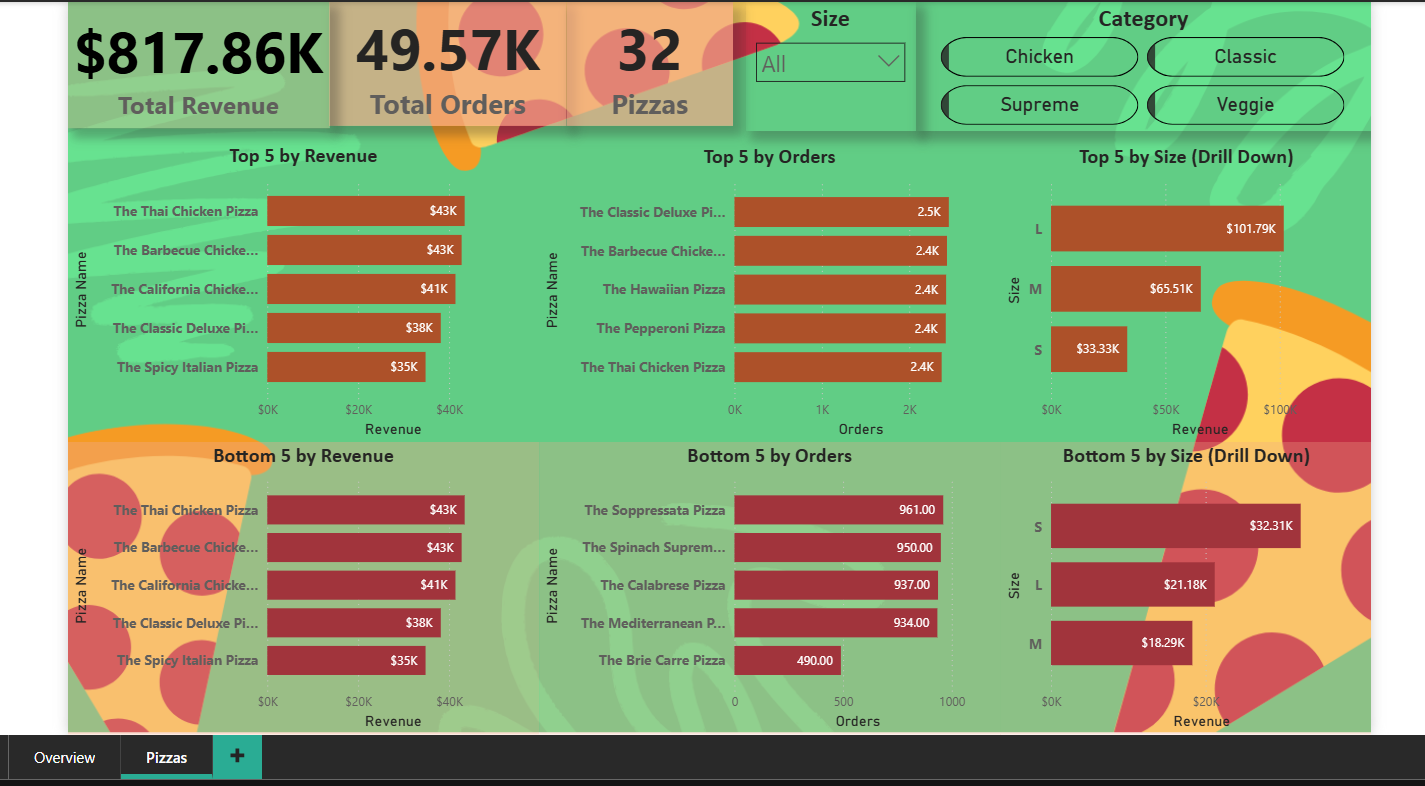

The page's visual inventory and layout, read from the dashboard file:
{"tool":"powerbi","page":{"name":"Pizzas","canvas":[1280,720],"ordinal":1},"visuals":[{"type":"card","fields":{"Values":["Sum(hourlySales.totalOrders)"]},"box":[256.4,0,233.1,121.5],"z":0},{"type":"barChart","title":"Top 5 by Revenue","fields":{"Category":["hourlySales.name"],"Y":["Sum(hourlySales.totalSales)"]},"box":[0,137.5,462.5,295],"z":1000},{"type":"barChart","title":"Bottom 5 by Revenue","fields":{"Category":["hourlySales.name"],"Y":["Sum(hourlySales.totalSales)"]},"box":[0,432.5,462.5,287.5],"z":2000},{"type":"barChart","title":"Top 5 by Orders","fields":{"Category":["hourlySales.name"],"Y":["Sum(hourlySales.totalOrders)"]},"box":[462.5,138.8,452.5,293.8],"z":3000},{"type":"barChart","title":"Bottom 5 by Orders","fields":{"Category":["hourlySales.name"],"Y":["Sum(hourlySales.totalOrders)"]},"box":[462.5,432.5,452.5,287.5],"z":4000},{"type":"advancedSlicerVisual","fields":{"Values":["hourlySales.category"]},"box":[831.9,0,447.9,126.4],"z":5000},{"type":"card","fields":{"Values":["Count(hourlySales.name)"]},"box":[489.6,0,163.2,121.5],"z":6000},{"type":"clusteredBarChart","title":"Bottom 5 by Size (Drill Down)","fields":{"Category":["hourlySales.size","hourlySales.name"],"Y":["Sum(hourlySales.totalSales)"]},"box":[915,432.5,365,287.5],"z":7000},{"type":"clusteredBarChart","title":"Top 5 by Size (Drill Down)","fields":{"Category":["hourlySales.size","hourlySales.name"],"Y":["Sum(hourlySales.totalSales)"]},"box":[915,138.8,365,293.8],"z":8000},{"type":"card","fields":{"Values":["Sum(hourlySales.totalSales)"]},"box":[0,0,256.4,123.9],"z":9000},{"type":"slicer","title":"Size","fields":{"Values":["hourlySales.size"]},"box":[665,0,166.9,126.4],"z":10000}]}

Visuals, with their boxes on the page's 1280x720 design canvas (x1, y1, x2, y2). These are canvas units, not pixel positions in the 1425x786 screenshot, which may show the page scaled, cropped or inside an application window:
card - Sum(hourlySales.totalOrders): BBox(256, 0, 490, 122)
"Top 5 by Revenue" barChart: BBox(0, 138, 462, 432)
"Bottom 5 by Revenue" barChart: BBox(0, 432, 462, 720)
"Top 5 by Orders" barChart: BBox(462, 139, 915, 433)
"Bottom 5 by Orders" barChart: BBox(462, 432, 915, 720)
advancedSlicerVisual - hourlySales.category: BBox(832, 0, 1280, 126)
card - Count(hourlySales.name): BBox(490, 0, 653, 122)
"Bottom 5 by Size (Drill Down)" clusteredBarChart: BBox(915, 432, 1280, 720)
"Top 5 by Size (Drill Down)" clusteredBarChart: BBox(915, 139, 1280, 433)
card - Sum(hourlySales.totalSales): BBox(0, 0, 256, 124)
"Size" slicer: BBox(665, 0, 832, 126)
